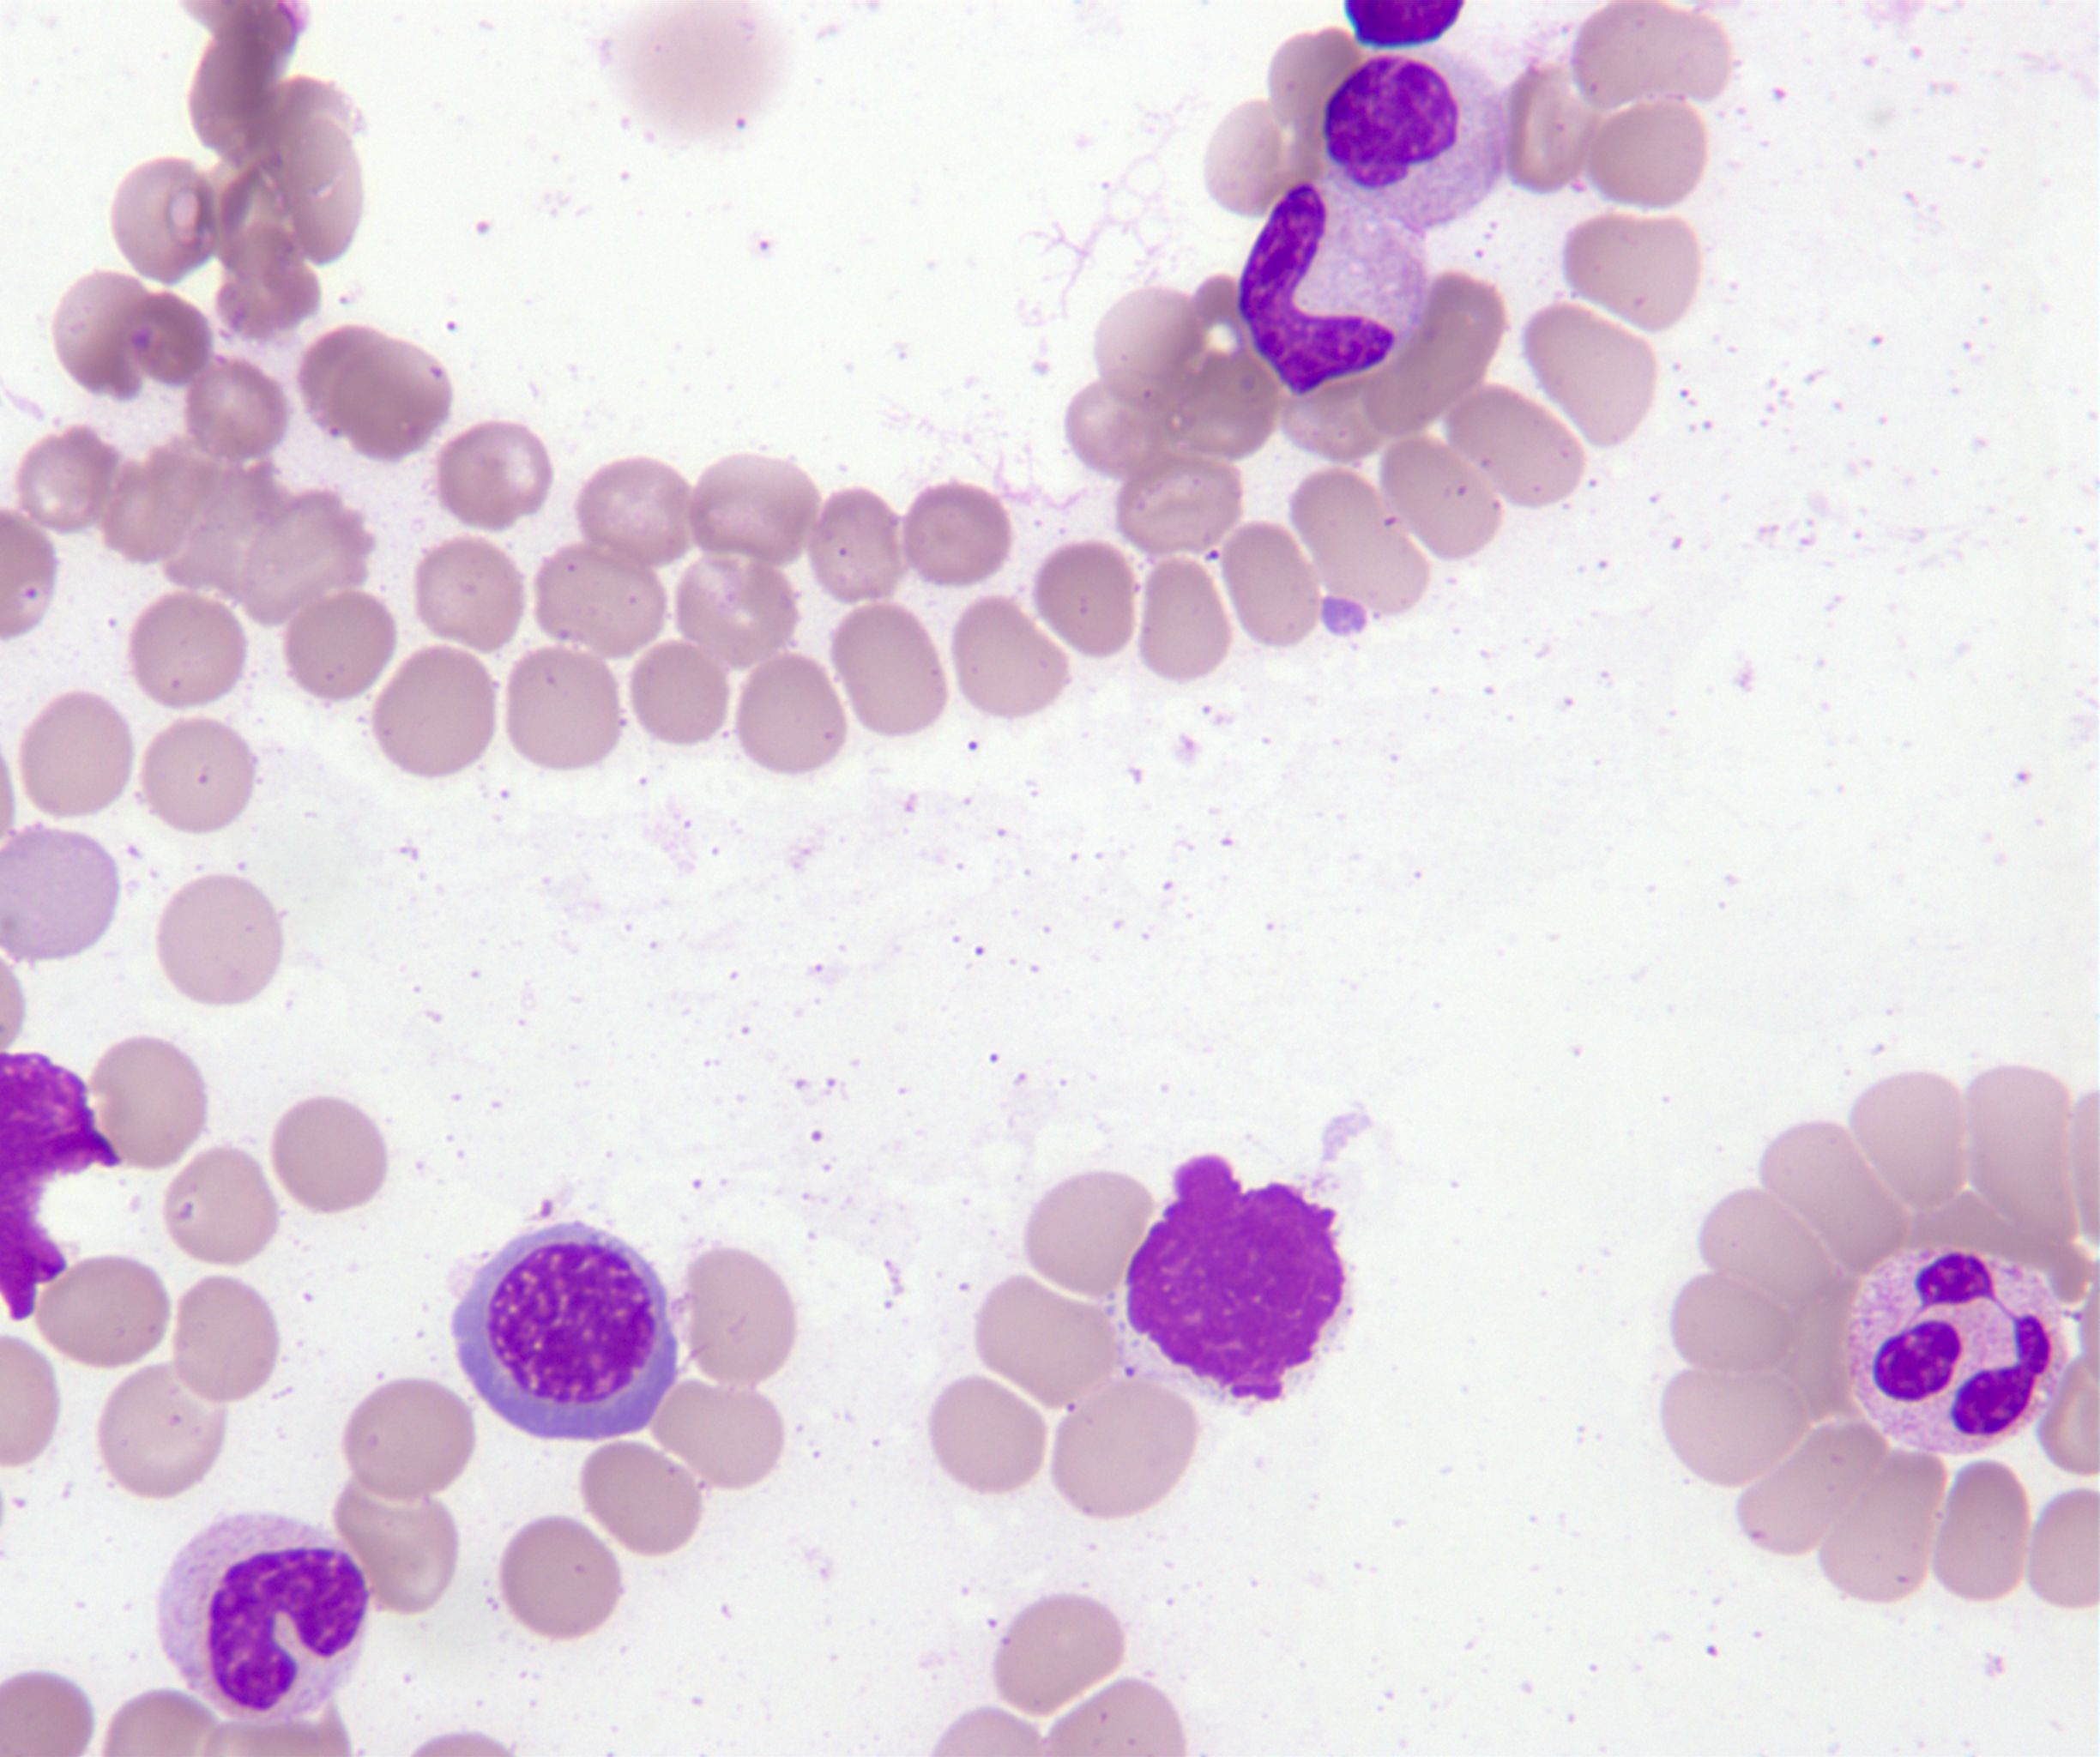23: (450, 1225, 677, 1439)
5: (157, 1514, 368, 1722), (1240, 187, 1425, 393), (1317, 44, 1505, 234)
6: (1840, 1246, 2065, 1455)
x: (1125, 1155, 1343, 1403)
